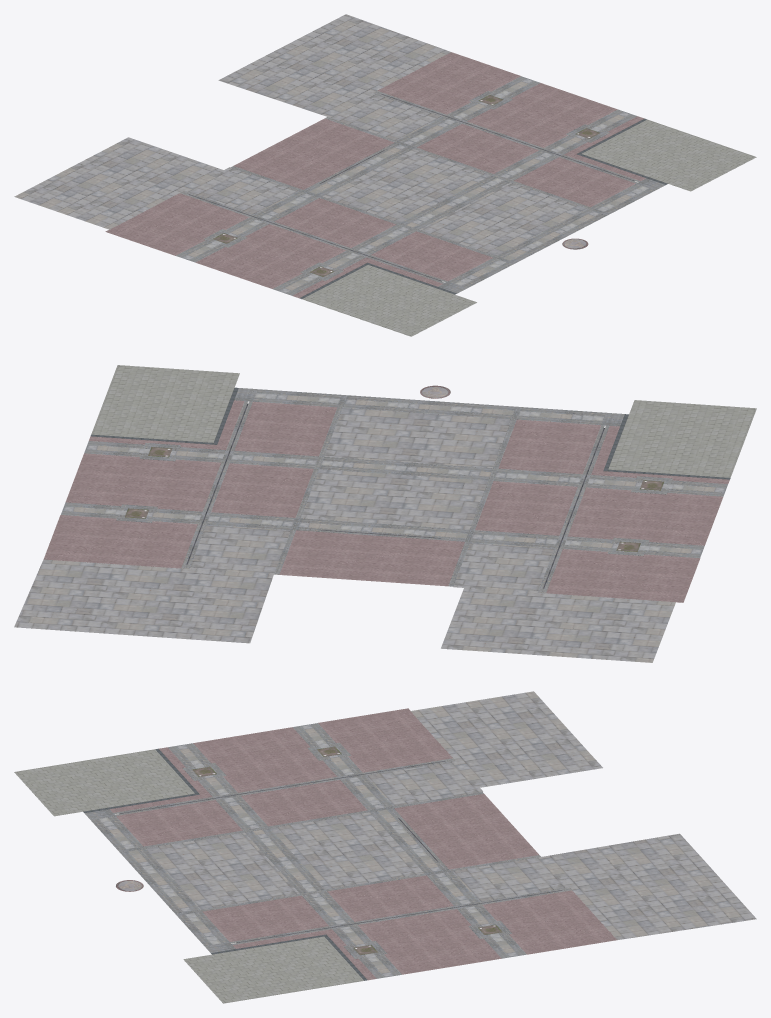
The model's file is JRP_Floor_Future_A.FBX.
3 views of the same model, one above another, from view 1: azimuth 30°, elevation 25°; view 2: azimuth 150°, elevation 25°; view 3: azimuth 270°, elevation 25° (orthographic). The views are drawn at different scales.
Visible parts, largest first — view 1: Rectangle012, JRP_Red, JRP_old_big, Rectangle006, Rectangle026, Rectangle025, Rectangle044, Rectangle046, Rectangle033, Rectangle035, Rectangle009, Rectangle013 (+3 smaller); view 2: Rectangle012, JRP_Red, JRP_old_big, Rectangle006, Rectangle026, Rectangle044, Rectangle035, Rectangle007, Rectangle009, Rectangle015, Rectangle025, Rectangle046 (+13 smaller); view 3: Rectangle012, JRP_Red, JRP_old_big, Rectangle006, Rectangle044, Rectangle033, Rectangle025, Rectangle035, Rectangle026, Rectangle046, Rectangle007, Rectangle009 (+6 smaller).
Part boxes in pixels (x1,y1,x2,y2): Rectangle012: [14, 14, 587, 256]; JRP_Red: [105, 52, 645, 297]; JRP_old_big: [302, 119, 756, 336]; Rectangle006: [182, 78, 648, 293]; Rectangle026: [351, 150, 545, 250]; Rectangle025: [364, 155, 558, 254]; Rectangle044: [268, 122, 461, 221]; Rectangle046: [255, 117, 448, 216]; Rectangle033: [448, 183, 641, 283]; Rectangle035: [462, 188, 655, 287]; Rectangle009: [400, 175, 496, 224]; Rectangle013: [497, 209, 593, 258]; Rectangle012: [14, 407, 675, 662]; JRP_Red: [43, 400, 729, 602]; JRP_old_big: [91, 365, 756, 477]; Rectangle006: [62, 393, 726, 553]; Rectangle026: [230, 459, 579, 486]; Rectangle044: [209, 512, 558, 539]; Rectangle035: [256, 389, 605, 416]; Rectangle007: [299, 518, 469, 533]; Rectangle009: [319, 465, 489, 480]; Rectangle015: [346, 395, 515, 410]; Rectangle025: [233, 450, 582, 478]; Rectangle046: [206, 520, 555, 548]; Rectangle012: [145, 691, 756, 940]; JRP_Red: [110, 708, 617, 980]; JRP_old_big: [14, 749, 363, 1003]; Rectangle006: [99, 724, 518, 977]; Rectangle044: [340, 778, 461, 905]; Rectangle033: [108, 816, 229, 943]; Rectangle025: [216, 798, 337, 925]; Rectangle035: [91, 819, 212, 946]; Rectangle026: [233, 796, 353, 923]; Rectangle046: [357, 775, 478, 902]; Rectangle007: [370, 811, 432, 873]; Rectangle009: [262, 828, 324, 890].
Bounding box in the file's own units: 7633 × 0.6 × 7673.
9 materials, 9 textured.
